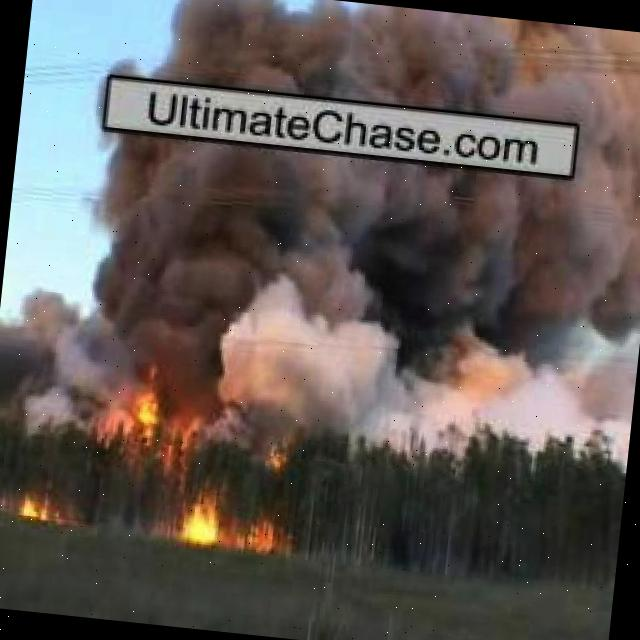fire: (125, 368, 168, 434), (182, 487, 225, 546), (16, 498, 59, 522), (255, 524, 282, 556)
